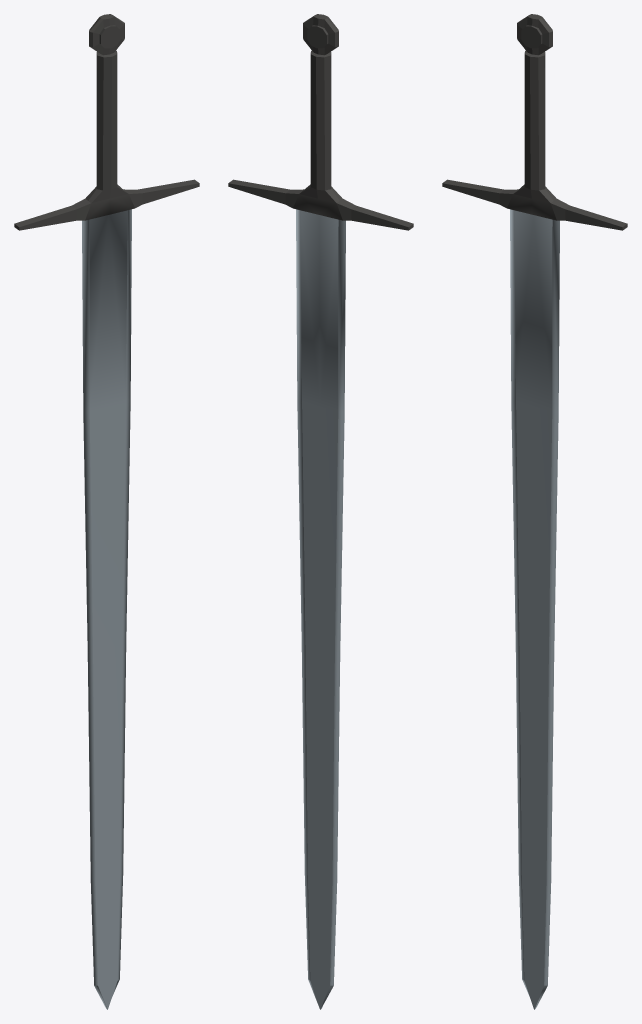
The model's file is sword_02.fbx.
3 views of the same model, side by side, from view 1: azimuth 30°, elevation 25°; view 2: azimuth 150°, elevation 25°; view 3: azimuth 330°, elevation 25° (orthographic).
Parts seen in each view (by area): view 1: sword_002; view 2: sword_002; view 3: sword_002.
Boxes of the visible parts, x1,y1,x2,y2 form: sword_002: [14, 14, 199, 1009]; sword_002: [228, 14, 413, 1009]; sword_002: [442, 14, 627, 1009].
Size of the model in its own units: 23.22 by 122 by 2.25.
